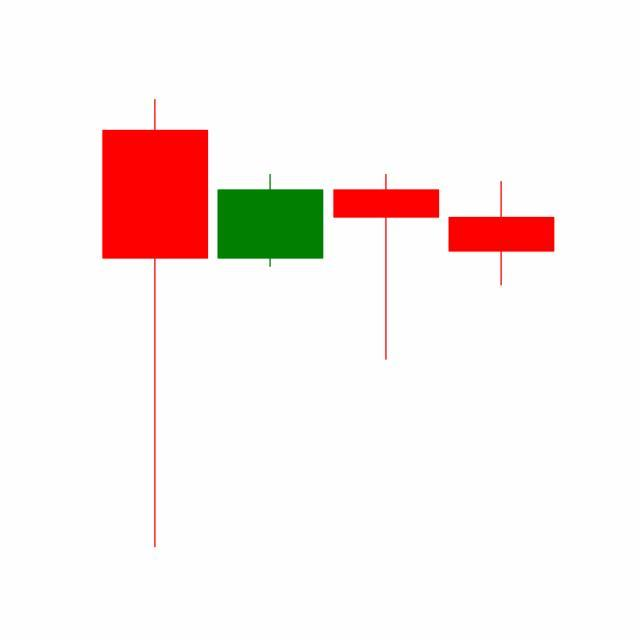Spinning Top: (444, 180, 560, 288)
